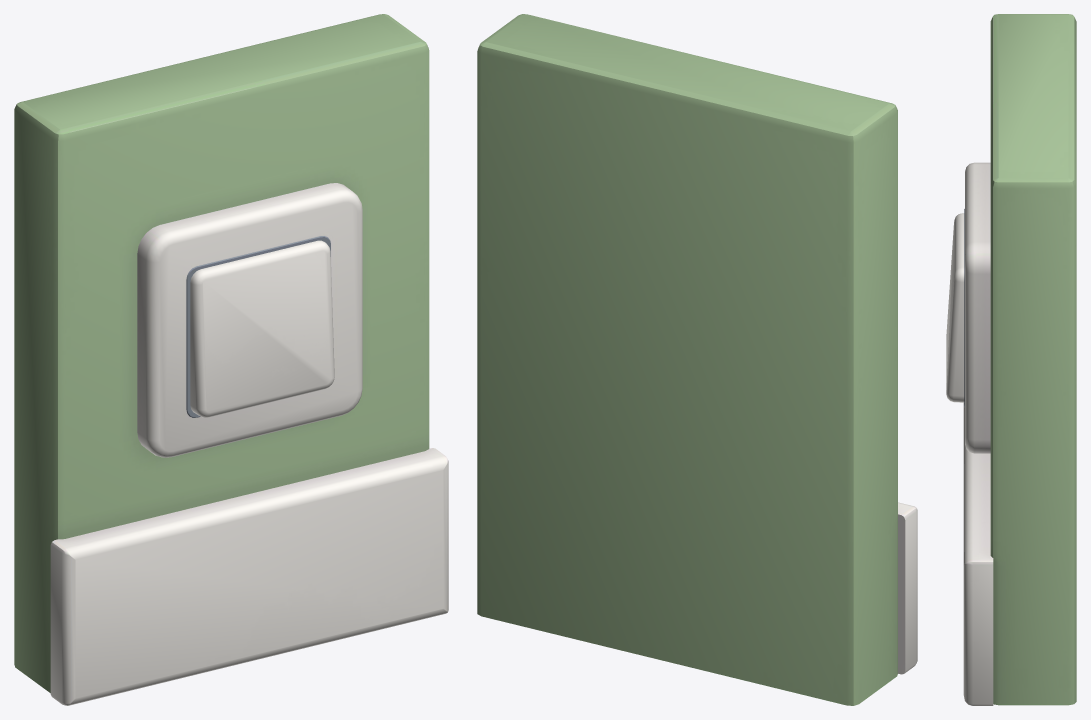
The model's file is switch.glb.
3 views of the same model, side by side, from view 1: azimuth 30°, elevation 25°; view 2: azimuth 150°, elevation 25°; view 3: azimuth 270°, elevation 25° (orthographic). The views are drawn at different scales.
Parts seen in each view (by area): view 1: light-switch_body, light-switch_rocker; view 2: light-switch_body; view 3: light-switch_body, light-switch_rocker.
Boxes of the visible parts, x1,y1,x2,y2 form: light-switch_body: (14,14,448,705); light-switch_rocker: (190,240,334,417); light-switch_body: (477,14,917,705); light-switch_body: (963,14,1076,705); light-switch_rocker: (946,213,964,402).
Bounding box in the file's own units: 0.154 × 0.215 × 0.0484.
2 materials, 2 textured.
